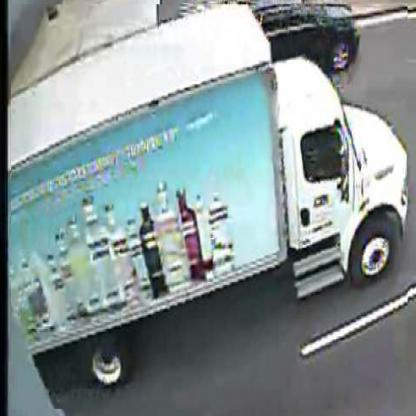truck: (11, 6, 409, 412)
